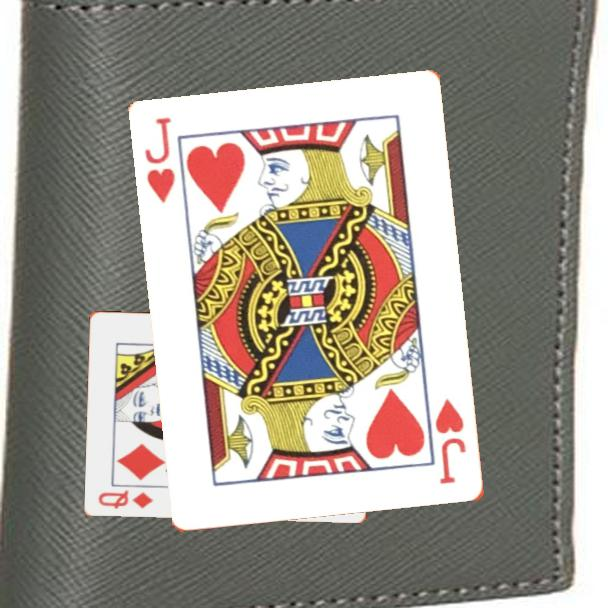d12: (95, 486, 156, 512)
h11: (432, 395, 470, 487), (141, 114, 179, 206)
